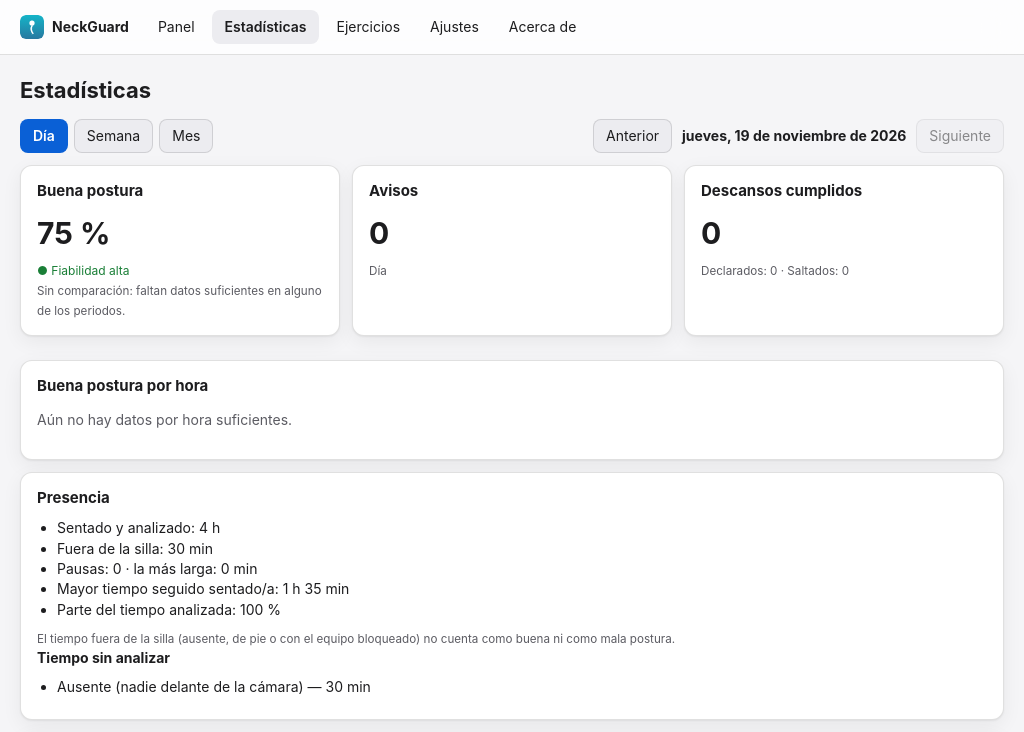
Test: UI: pantallas e idioma › estadísticas con datos: día/semana/mes, fiabilidad, ausencias y pautas
Click the tab "Semana" at [114, 136], box [74, 119, 153, 154]
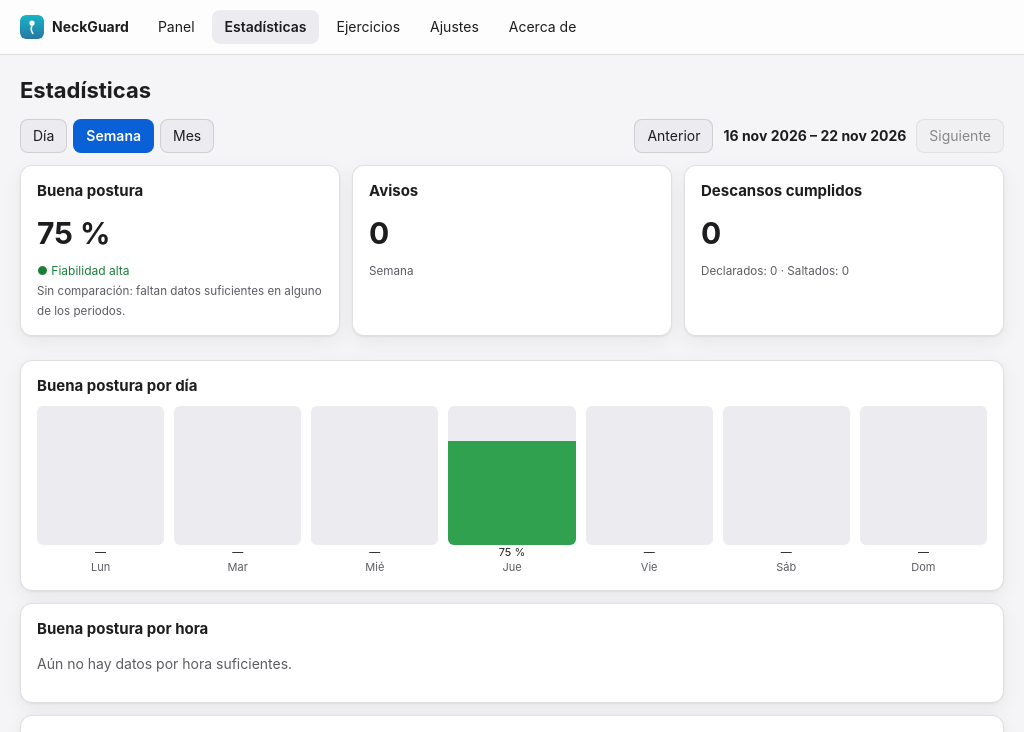
Result: the text "16 nov 2026 – 22 nov 2026" is shown at [723, 126, 906, 146]
Click the tab "Mes" at [187, 136], box [160, 119, 214, 154]
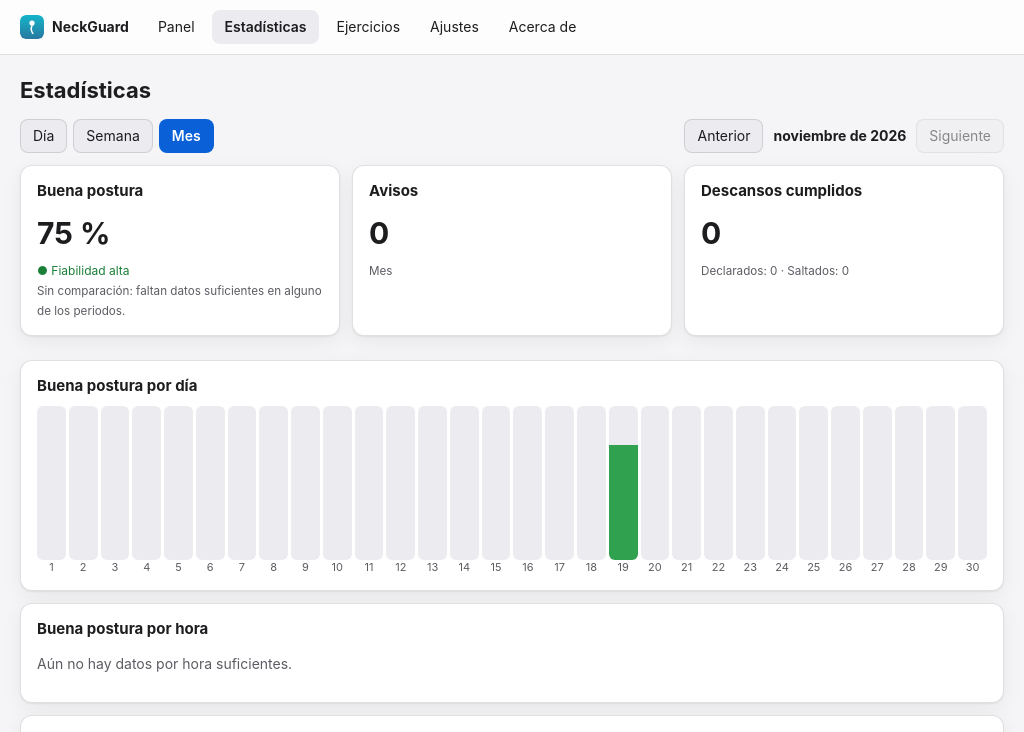
Click the button "Anterior" at [724, 136], box [684, 119, 764, 154]
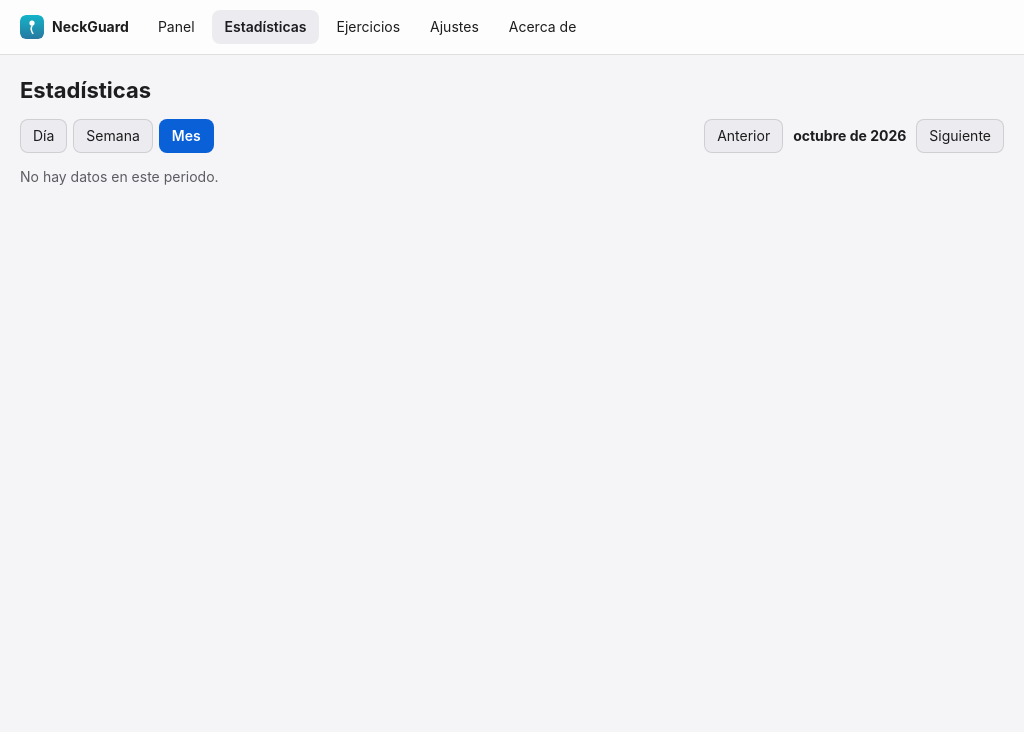
Result: the text "No hay datos en este periodo" is shown at [20, 168, 219, 186]
